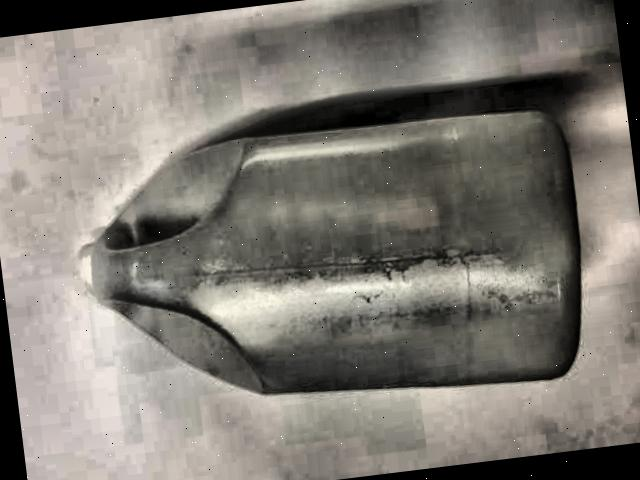Plastic: (42, 83, 626, 459)
